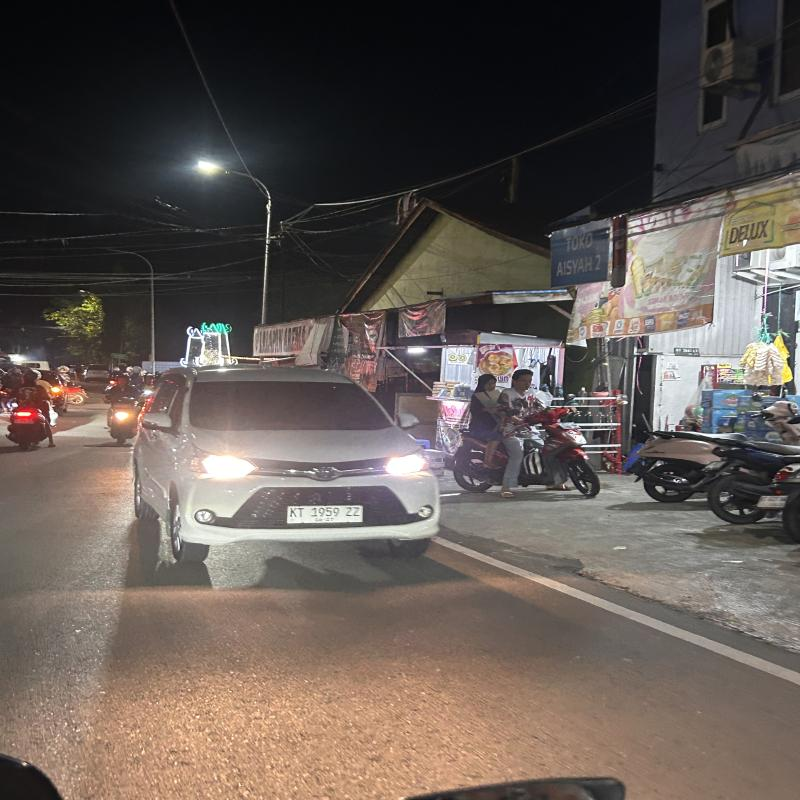license plate on a car: (286, 496, 376, 539)
